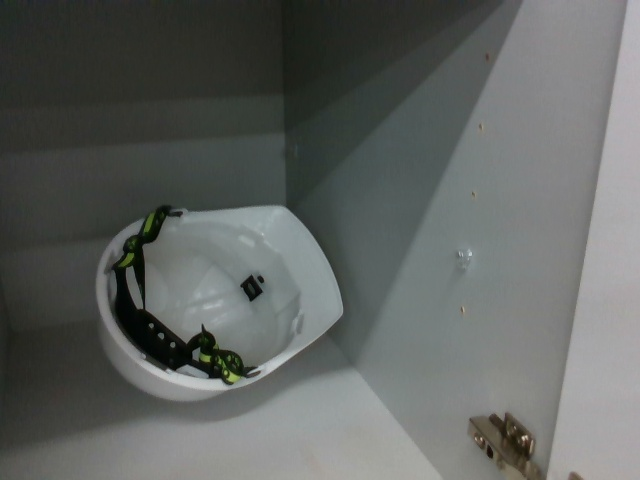helmet: (80, 200, 347, 407)
